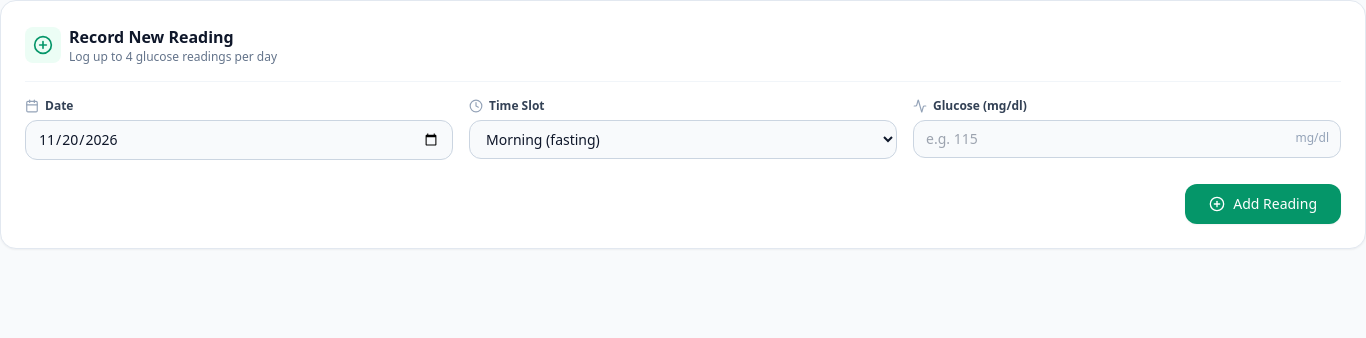
Test case: ReadingForm Component - Validation Rules & Submission › 1. Value is required: displays "Please enter a glucose value." when value is empty
This screenshot has width=1366, height=338.
What coordinates should you click on to do the following:
click the button with test id "submit-reading-button"
I would click on:
 (1263, 204)
Its box is [1185,184,1341,224].
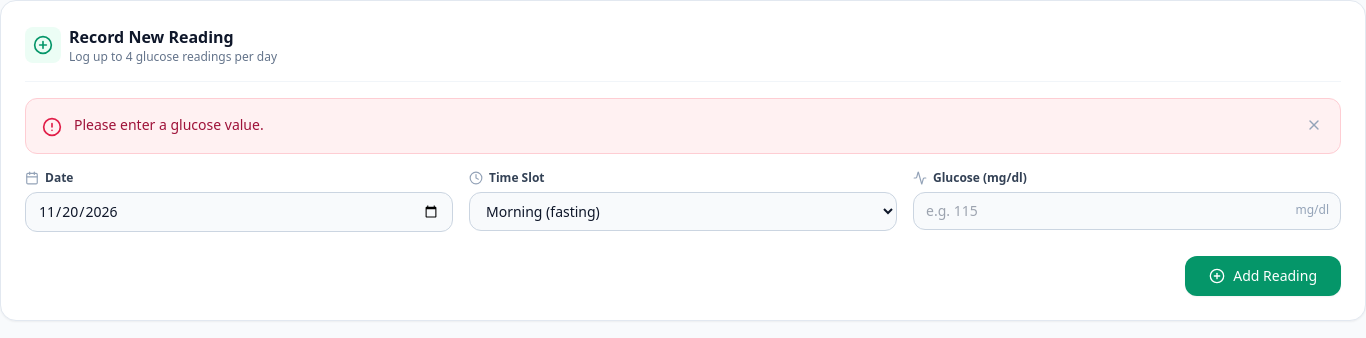
Result: the text "Please enter a glucose value." is shown at [74,115,264,135]
